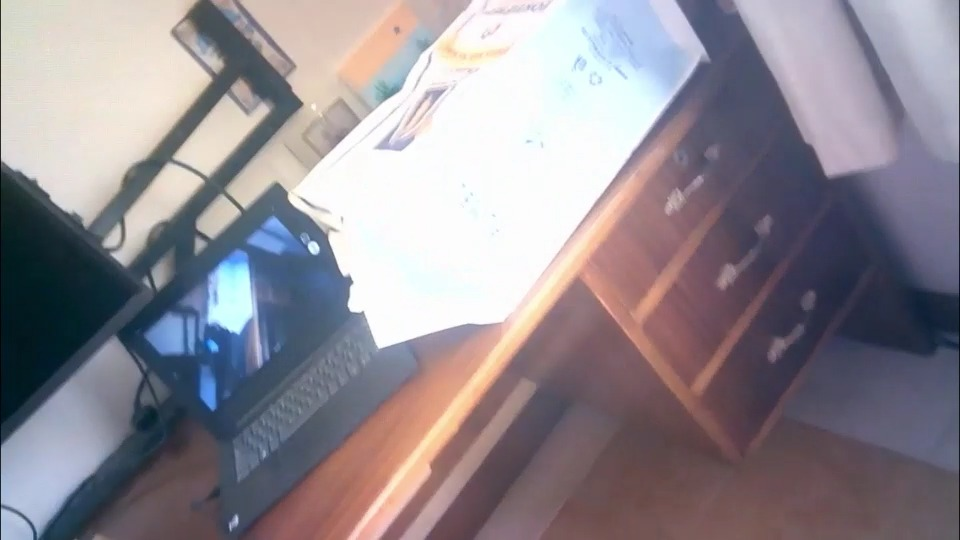wheat_flour_blue_label: (296, 4, 705, 334)
